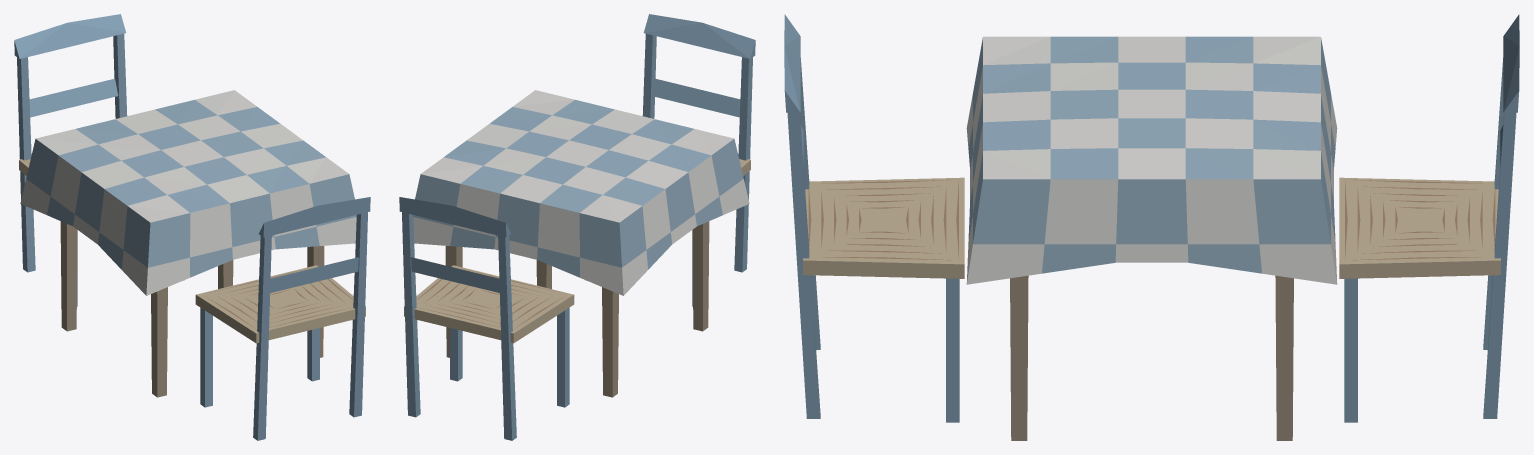
File: taverna.glb
3 renders of one model, left to right at view 1: azimuth 30°, elevation 25°; view 2: azimuth 150°, elevation 25°; view 3: azimuth 270°, elevation 25°, orthographic. The views are drawn at different scales.
Visible parts, largest first — view 1: taverna; view 2: taverna; view 3: taverna.
Part boxes in pixels (x1,y1,x2,y2): taverna: (14,14,370,440); taverna: (399,14,755,440); taverna: (784,14,1519,440).
Bounding box in the file's own units: 0.921 × 0.92 × 1.83.
